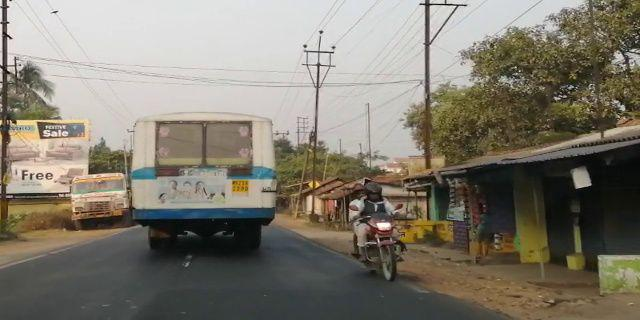Bus: (123, 113, 280, 254)
Motorbike: (345, 181, 411, 280)
Truck: (62, 165, 133, 229)
